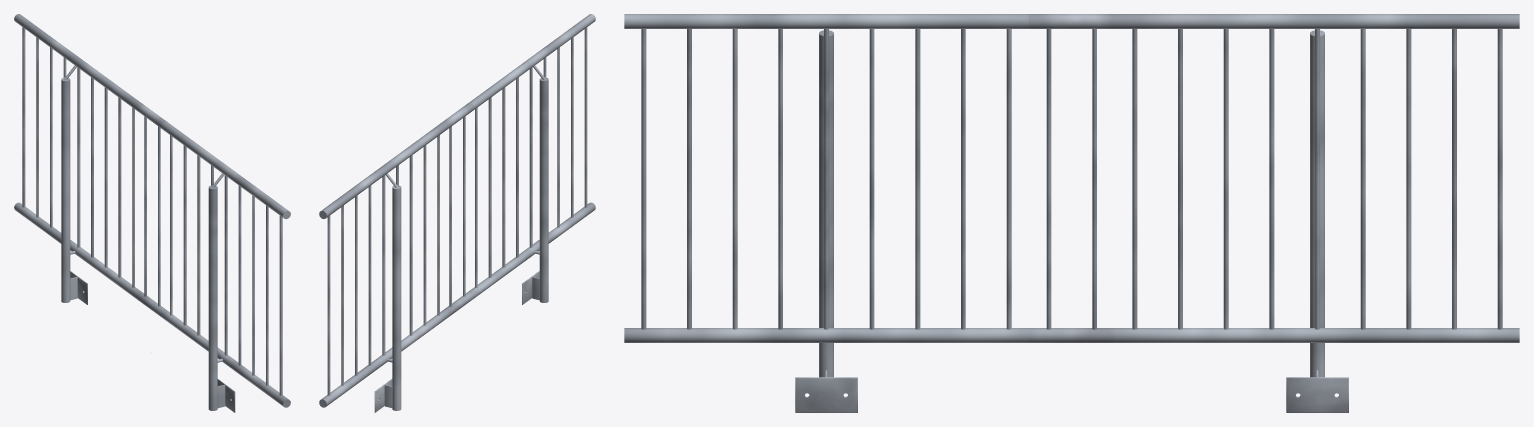
File: gelaender-250.gltf
3 renders of one model, left to right at view 1: azimuth 30°, elevation 25°; view 2: azimuth 150°, elevation 25°; view 3: azimuth 270°, elevation 25°, orthographic. The views are drawn at different scales.
Visible parts, largest first — view 1: SK0500_Geländer-250.001; view 2: SK0500_Geländer-250.001; view 3: SK0500_Geländer-250.001.
Boxes of the visible parts, bbox=[...] form: SK0500_Geländer-250.001: bbox=[14, 14, 290, 412]; SK0500_Geländer-250.001: bbox=[319, 14, 595, 412]; SK0500_Geländer-250.001: bbox=[624, 14, 1519, 412].
Size of the model in its own units: 0.102 by 1.12 by 2.28.
Materials: 2 (2 with a texture image).
